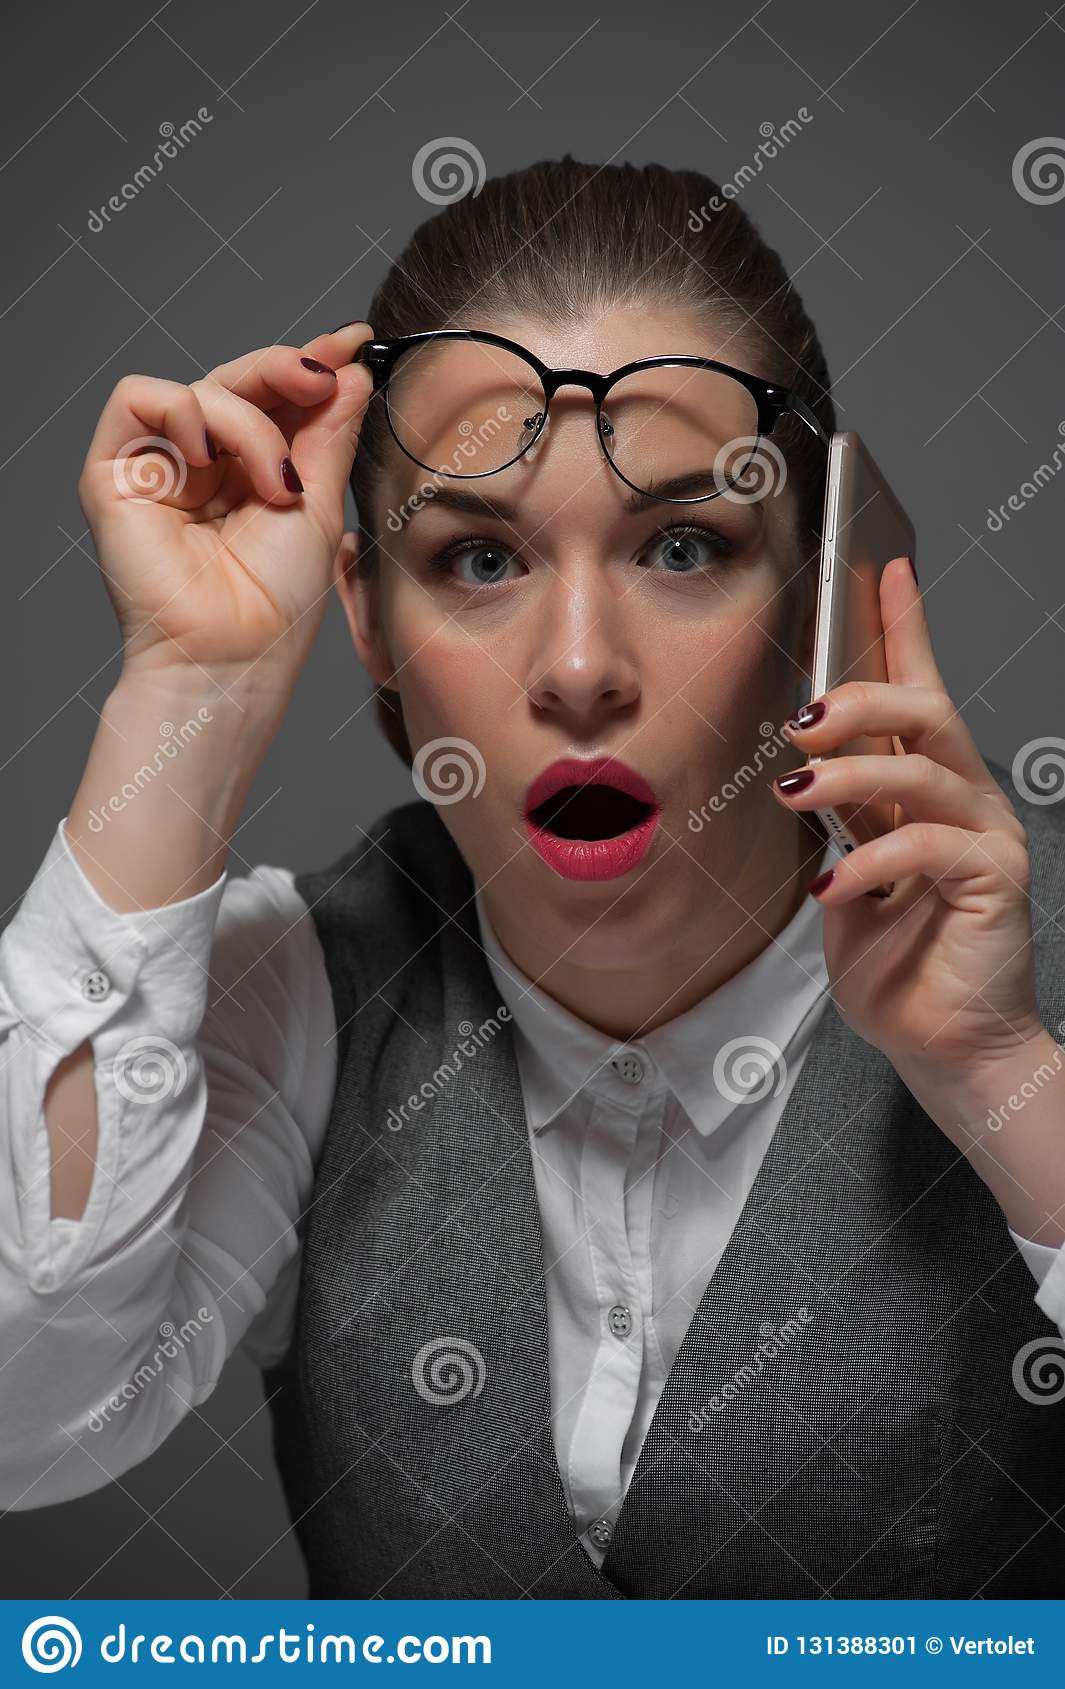phone: (798, 442, 925, 903)
talk: (377, 432, 1043, 1086)
